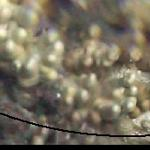alive: (3, 2, 147, 146)
